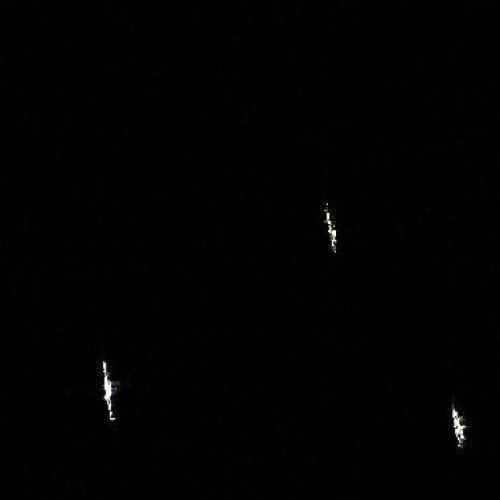ship: (101, 358, 116, 423), (450, 406, 467, 447), (325, 208, 339, 254)
